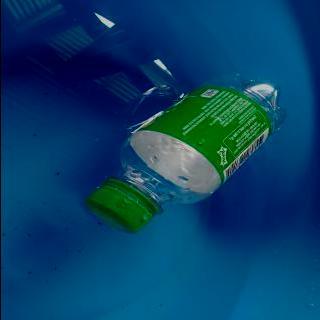bottle: (83, 70, 287, 235)
